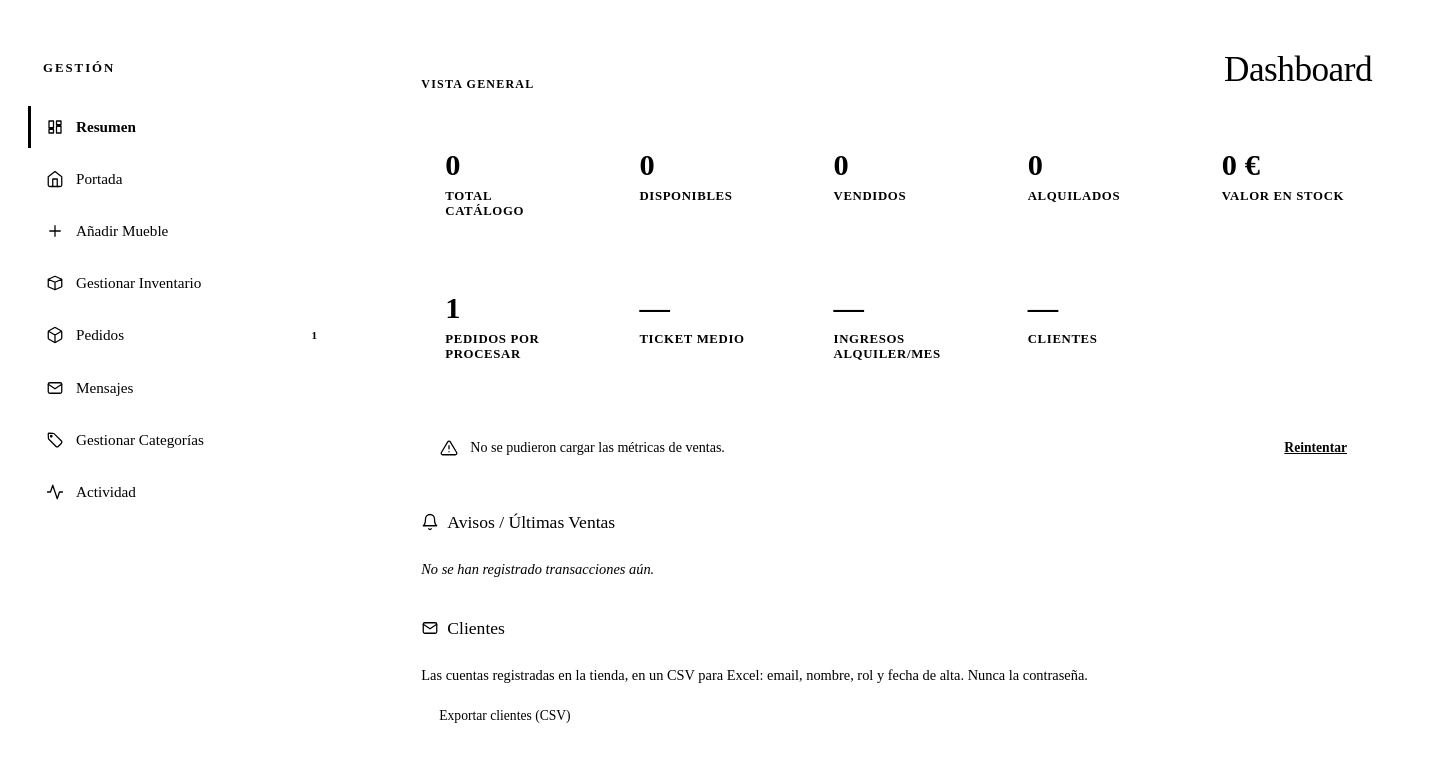
Scenario: Pedidos — filtro y recarga › el filtro ofrece los cuatro estados y enseña solo los pedidos de ese estado
Click the button "Pedidos 1" at (100, 335), box [28,314,341,357]
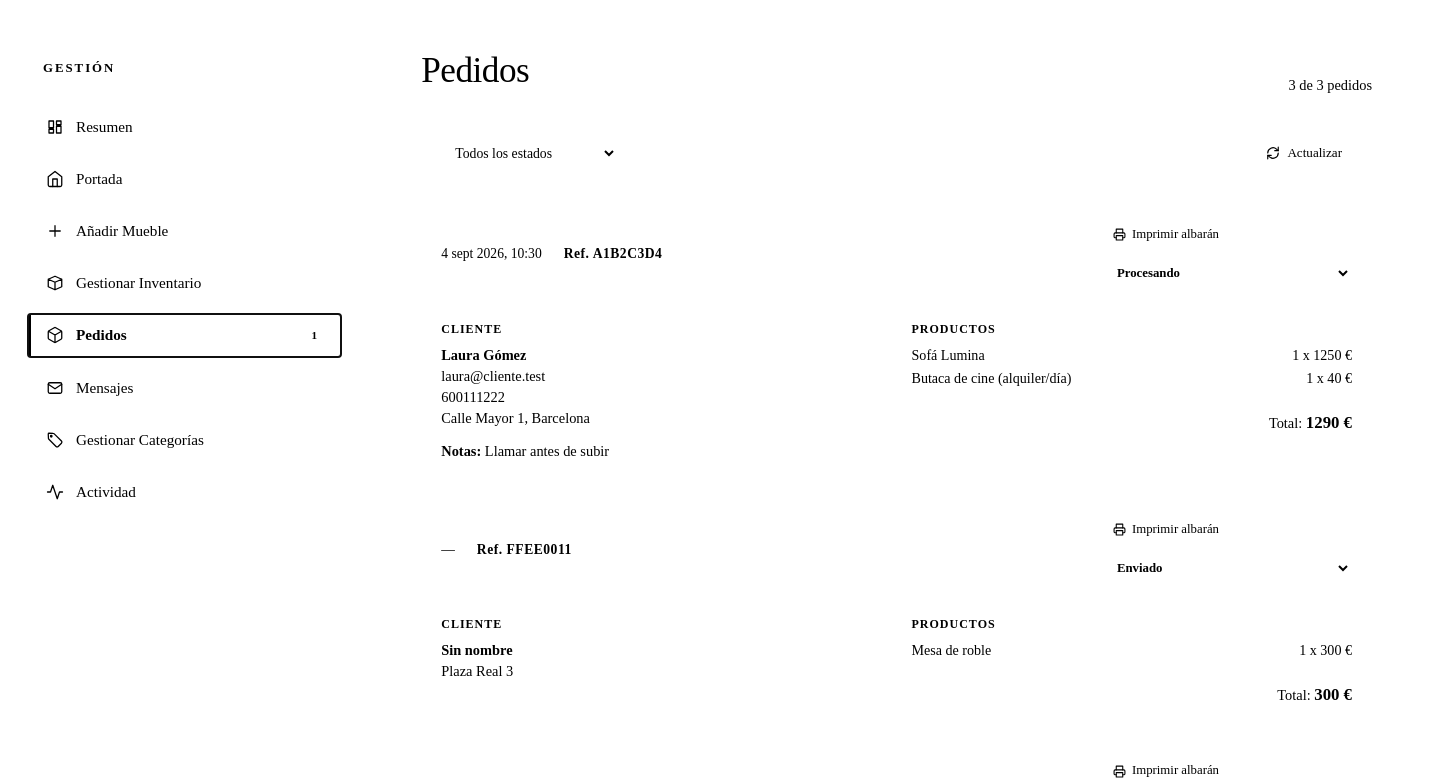
Select "Enviado" in the dropdown named "Filtrar pedidos por estado" at (527, 153), box [437,136,617,171]
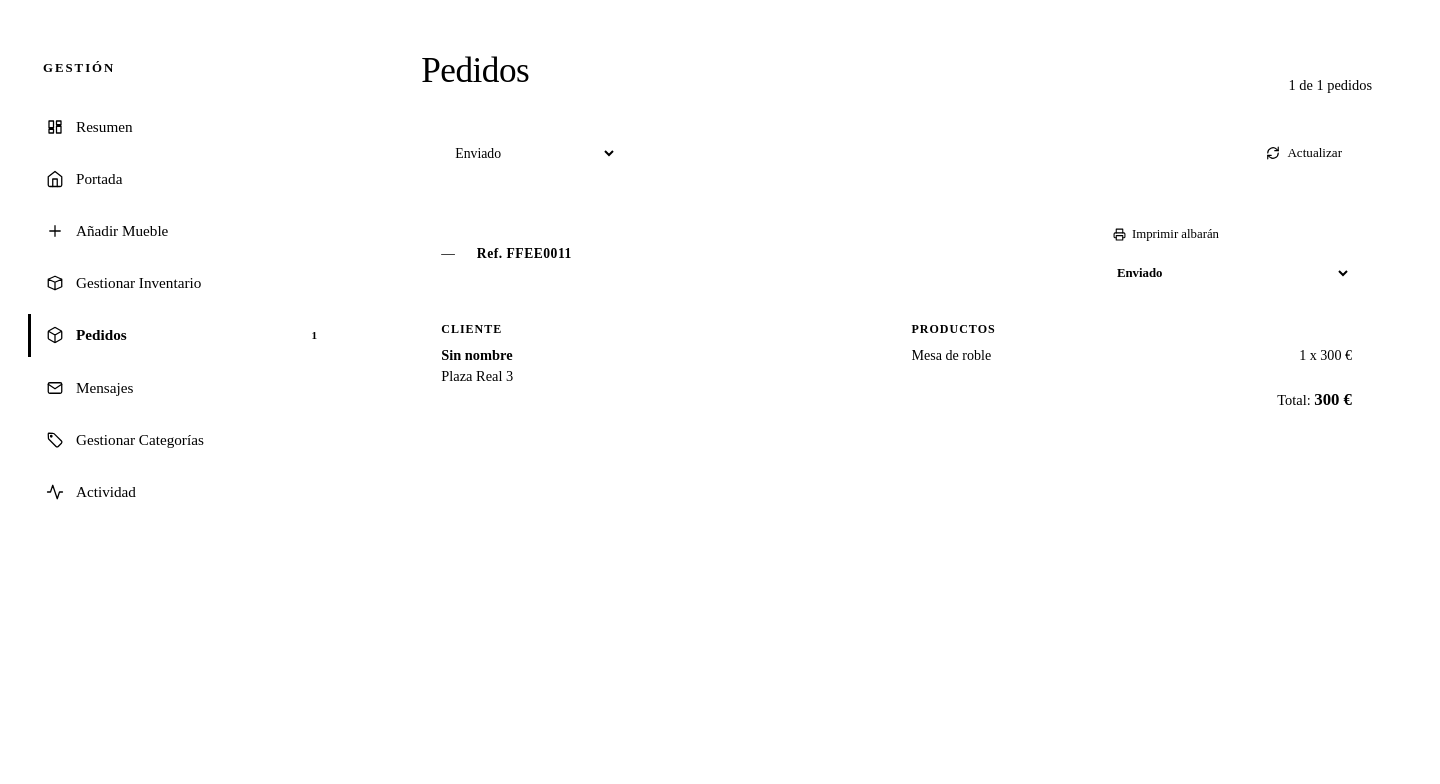
expect the text "1 de 1 pedidos" is shown: met, box [1288,77,1372,94]
